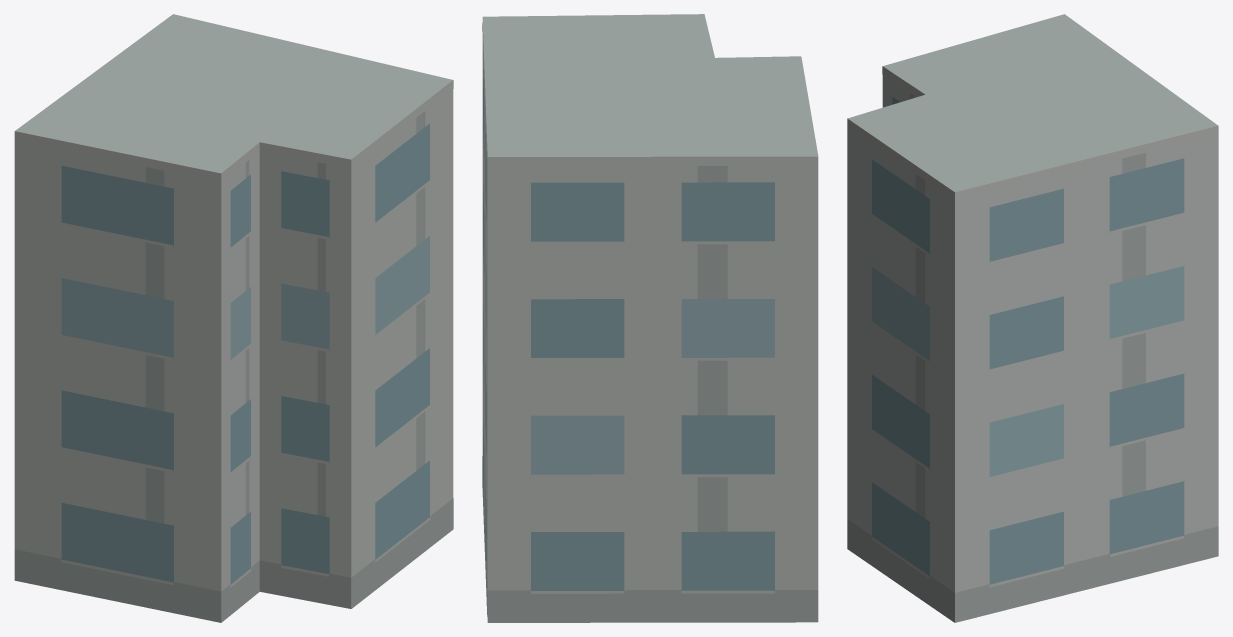
Rendered from residential-b55e20b4-864e-424a-9961-ed1c0fb437a5.glb.
The picture shows the model from 3 angles, left to right: view 1: azimuth 30°, elevation 25°; view 2: azimuth 150°, elevation 25°; view 3: azimuth 270°, elevation 25°; orthographic projection. The views are drawn at different scales.
Parts seen in each view (by area): view 1: residential-b55e20b4-864e-424a-9961-ed1c0fb437a5.tmp; view 2: residential-b55e20b4-864e-424a-9961-ed1c0fb437a5.tmp; view 3: residential-b55e20b4-864e-424a-9961-ed1c0fb437a5.tmp.
Part boxes in pixels (x1,y1,x2,y2): residential-b55e20b4-864e-424a-9961-ed1c0fb437a5.tmp: (14, 14, 453, 622); residential-b55e20b4-864e-424a-9961-ed1c0fb437a5.tmp: (482, 14, 818, 622); residential-b55e20b4-864e-424a-9961-ed1c0fb437a5.tmp: (847, 14, 1218, 622).
Size of the model in its own units: 10.84 by 12.2 by 9.54.
